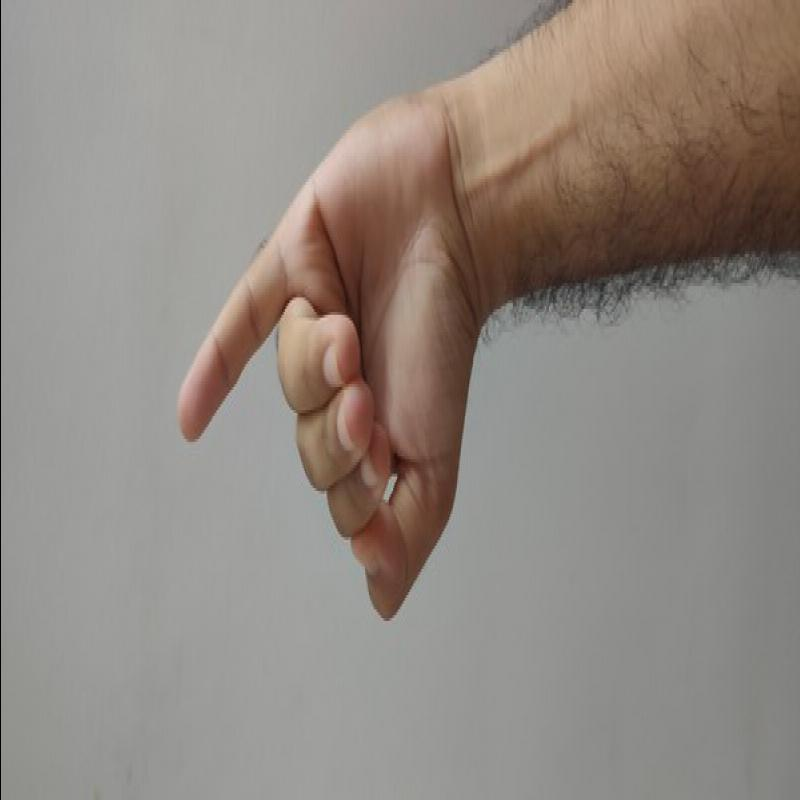Kartharee Mukham: (158, 74, 491, 638)
